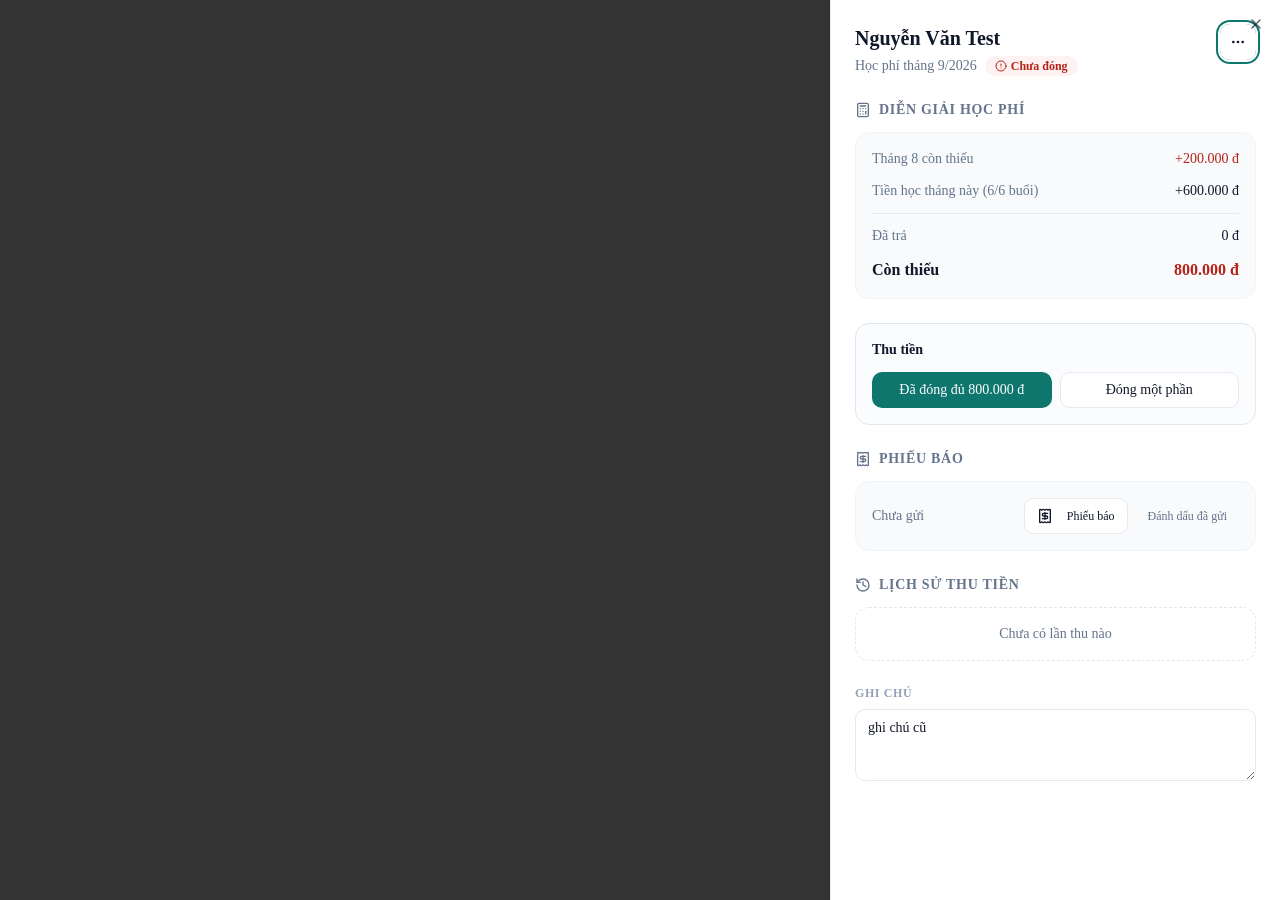
Test: TuitionDetailSheet — sửa sau review Y › tháng đã xong còn thiếu: menu ⋮ vẫn có Miễn
Press the mouse on the button without text in the row of "Nguyễn Văn Test": coordinates (1238, 42) [1220, 24, 1256, 60]
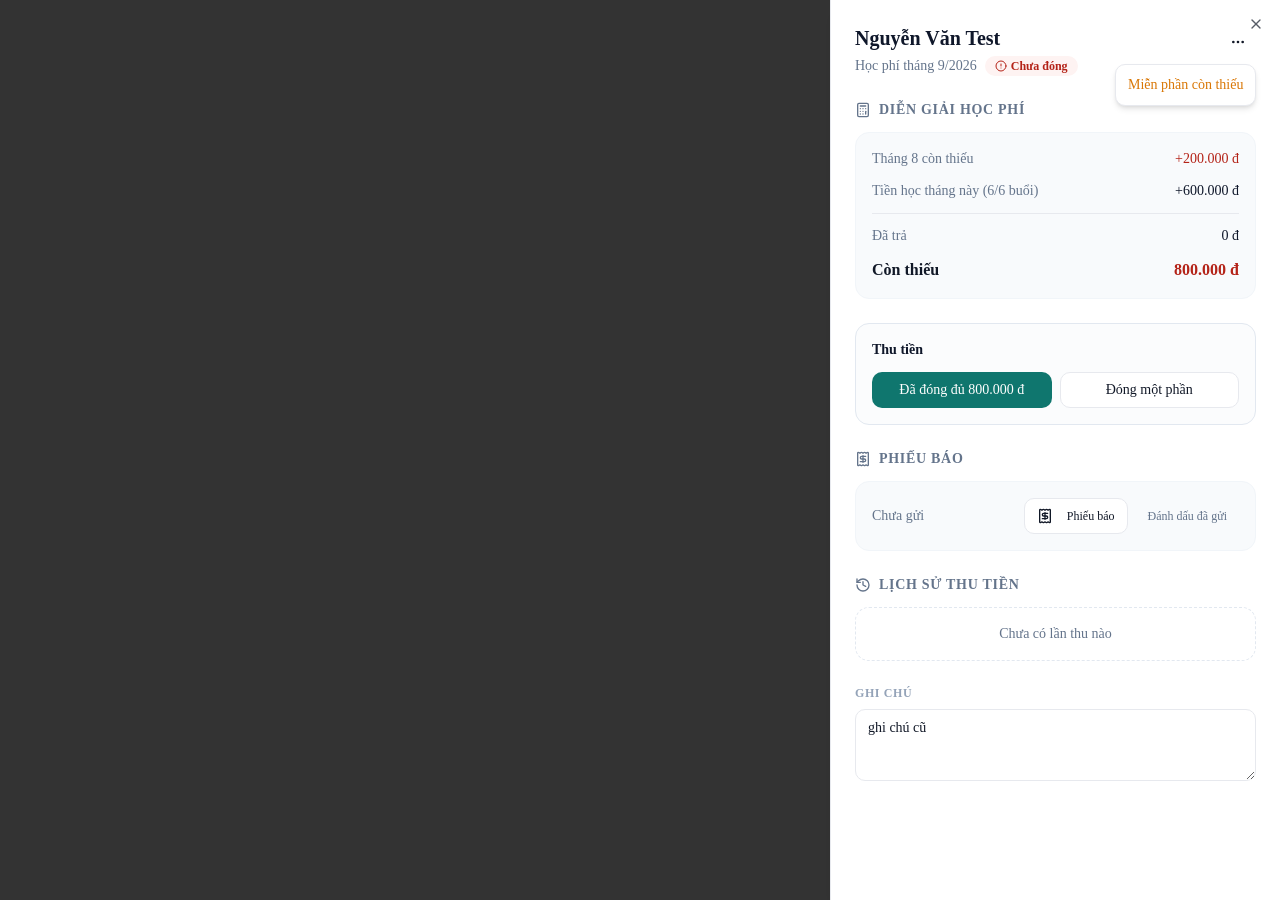
Now the menu item "Miễn phần còn thiếu" is shown, box [1128, 77, 1244, 92]
